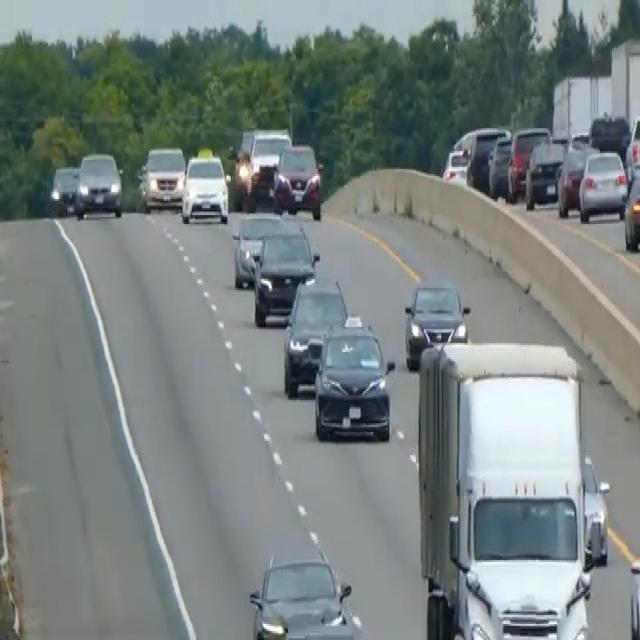car: (312, 313, 395, 443), (282, 274, 348, 396), (251, 222, 319, 327), (403, 277, 470, 370), (443, 123, 509, 190), (231, 208, 284, 288), (272, 140, 322, 218), (577, 146, 627, 222), (180, 149, 230, 224), (505, 123, 551, 201), (74, 149, 123, 219), (555, 140, 598, 217), (523, 137, 566, 210), (142, 144, 186, 210), (248, 126, 291, 188), (230, 126, 256, 203), (588, 110, 630, 156), (487, 132, 513, 198), (49, 162, 79, 215), (623, 167, 639, 251), (441, 144, 472, 187), (624, 110, 639, 183), (627, 555, 639, 638)
jeep: (245, 548, 364, 638)
lorry: (414, 336, 610, 638)
